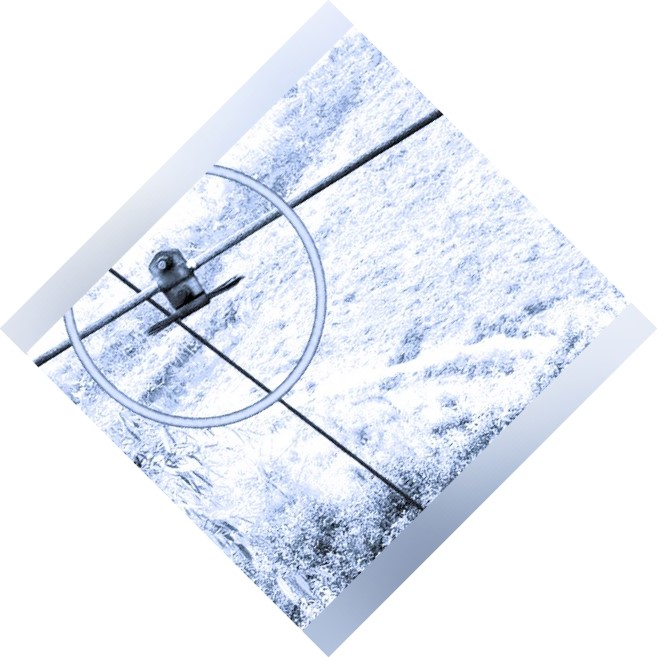Damage of shockproof hammer: (122, 235, 256, 340)
